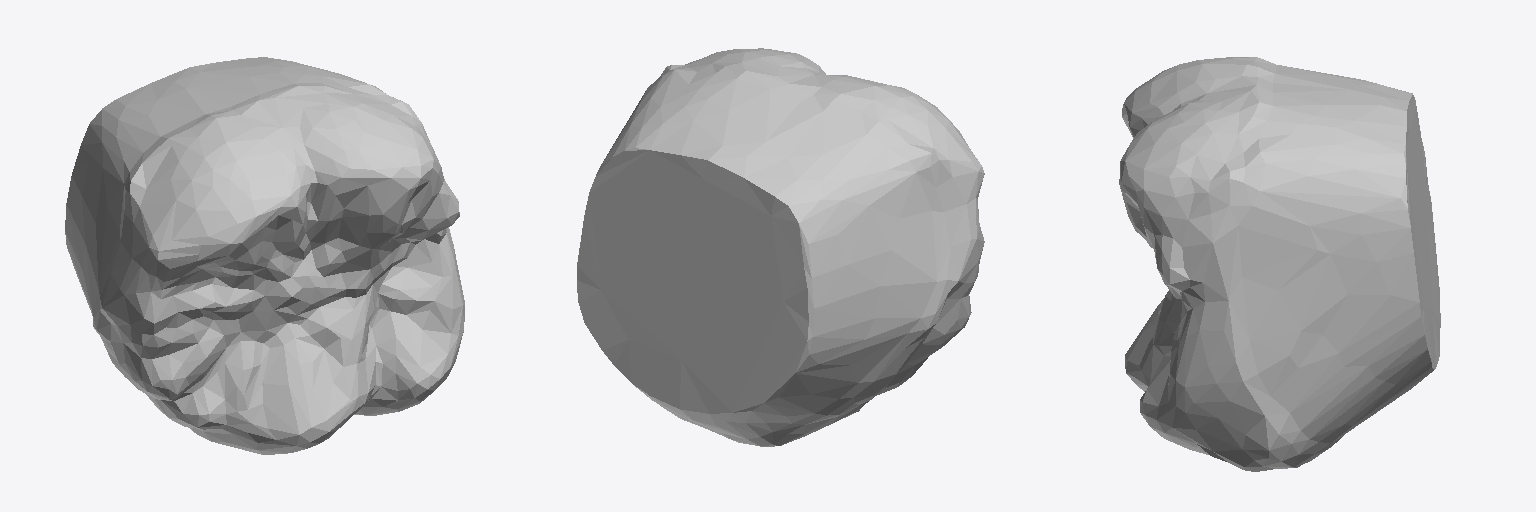
Rendered from local_t26_7780_si.OBJ.
3 views of the same model, side by side, from view 1: azimuth 30°, elevation 25°; view 2: azimuth 150°, elevation 25°; view 3: azimuth 270°, elevation 25° (orthographic).
Parts seen in each view (by area): view 1: Group7577; view 2: Group7577; view 3: Group7577.
Part boxes in pixels (x1,y1,x2,y2): Group7577: (65, 57, 464, 454); Group7577: (577, 48, 984, 446); Group7577: (1119, 57, 1440, 471).
Size of the model in its own units: 11.82 by 11.04 by 9.47.